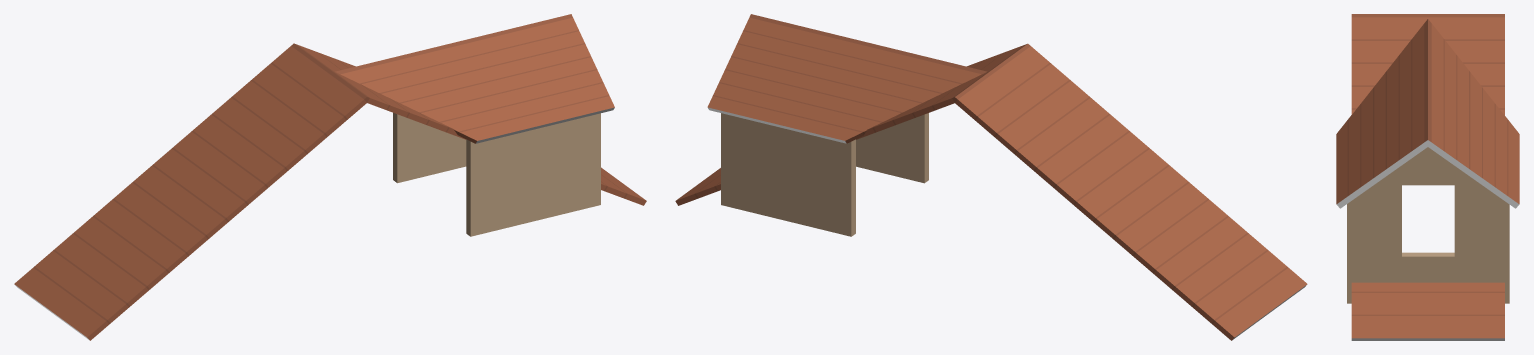
Rendered from Roof4_C5_05.fbx.
3 renders of one model, left to right at view 1: azimuth 30°, elevation 25°; view 2: azimuth 150°, elevation 25°; view 3: azimuth 270°, elevation 25°, orthographic. The views are drawn at different scales.
Visible parts, largest first — view 1: Roof4_C5_05; view 2: Roof4_C5_05; view 3: Roof4_C5_05.
Part boxes in pixels (x1,y1,x2,y2): Roof4_C5_05: (14, 14, 646, 340); Roof4_C5_05: (675, 14, 1307, 340); Roof4_C5_05: (1336, 14, 1519, 340).
Bounding box in the file's own units: 1105 × 333 × 298.
